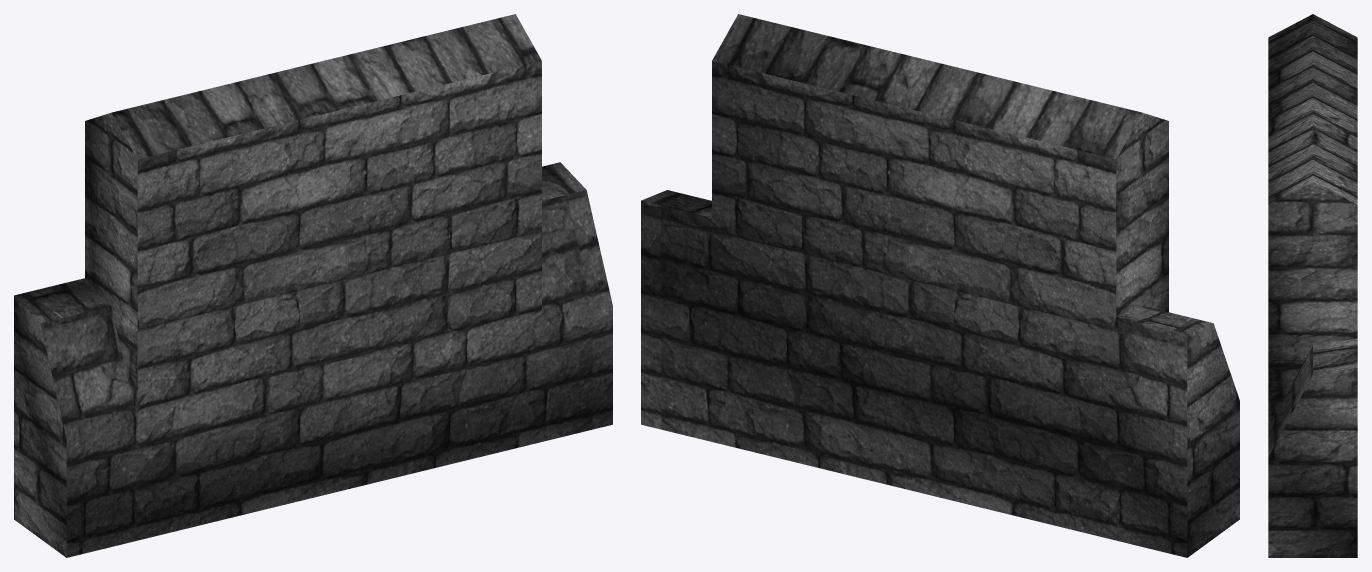
File: stone defense2.glb
3 views of the same model, side by side, from view 1: azimuth 30°, elevation 25°; view 2: azimuth 150°, elevation 25°; view 3: azimuth 270°, elevation 25° (orthographic). The views are drawn at different scales.
Visible parts, largest first — view 1: Wall.028; view 2: Wall.028; view 3: Wall.028.
Boxes of the visible parts, box(x1,y1,x2,y2) form: Wall.028: box(14, 14, 612, 557); Wall.028: box(641, 14, 1239, 557); Wall.028: box(1268, 14, 1357, 557).
Size of the model in its own units: 2.74 by 1.96 by 0.4572.
1 material, 1 textured.
